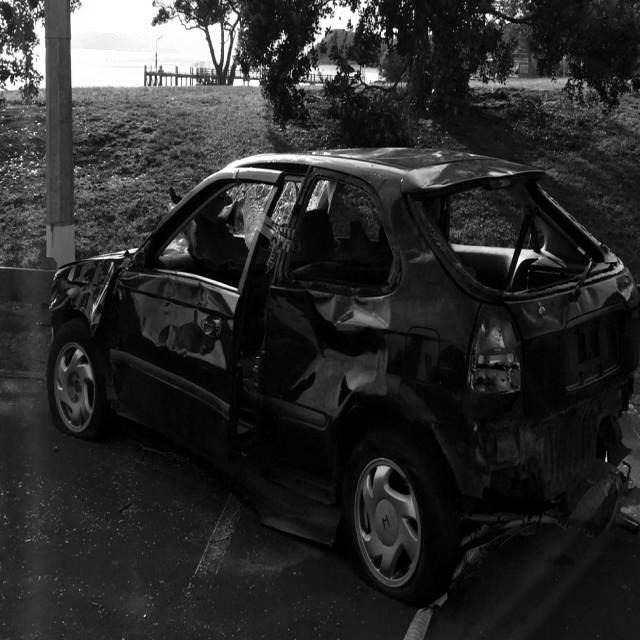Rear-windscreen-Damage: (425, 184, 623, 293)
Taillight-Damage: (470, 307, 531, 420)
doorouter-dent: (231, 185, 400, 480), (115, 227, 239, 476)
fender-dent: (52, 267, 110, 368)
